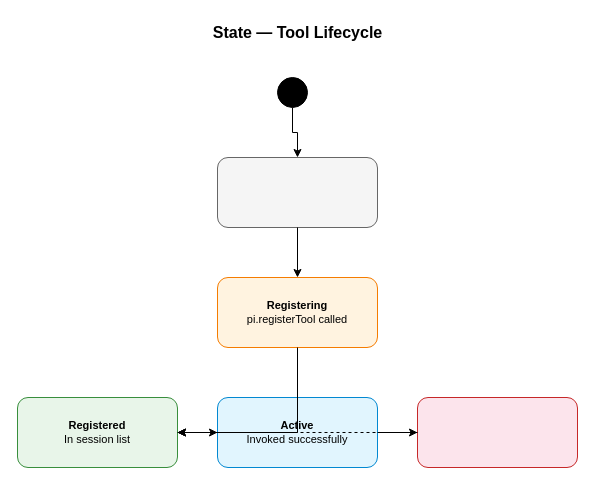
Image size: 595x485. Some labels were removed from this diagram. The box of each missing label's shape, as (x1, y1, x2, y2) in pixels:
Error MCP unreachable / validation fail: (416, 396, 578, 468)
Unregistered Extension not loaded: (216, 156, 378, 228)
